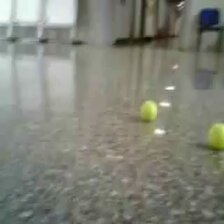tennis: (209, 122, 224, 149), (139, 100, 157, 118)
